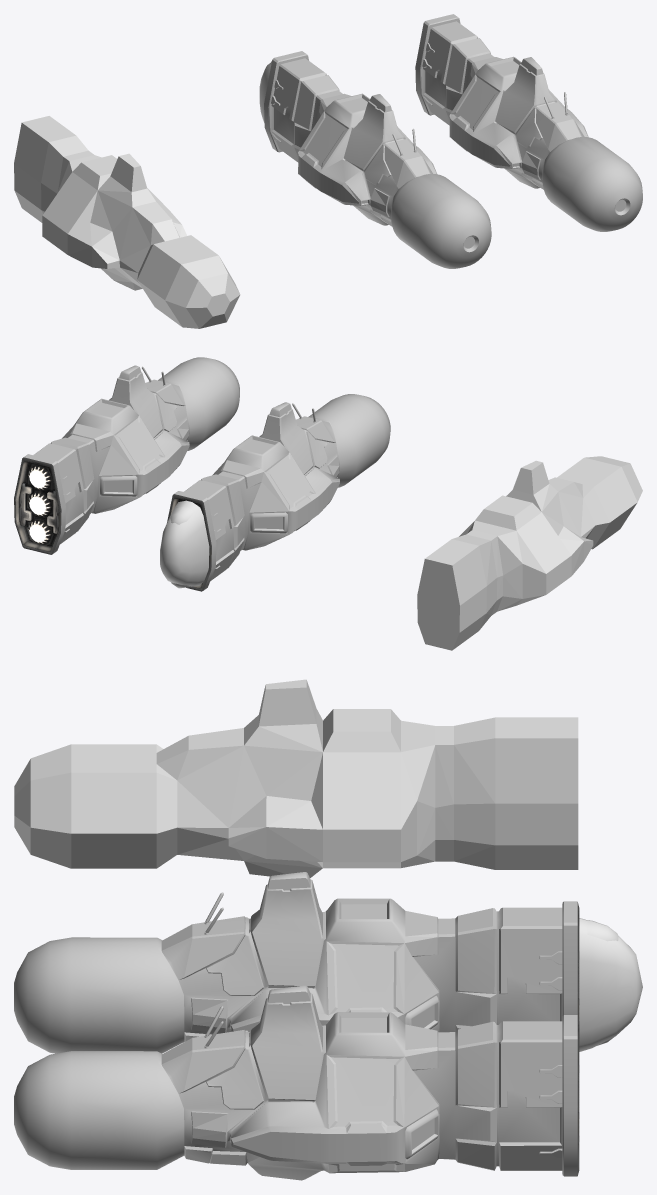
Rendered from bst_fieldfrigate.dae.
3 views of the same model, one above another, from view 1: azimuth 30°, elevation 25°; view 2: azimuth 150°, elevation 25°; view 3: azimuth 270°, elevation 25° (orthographic). The views are drawn at different scales.
Visible parts, largest first — view 1: COL[Root], MULT[DFGFrigate]_LOD[1], MULT[DFGFrigate]_LOD[0]; view 2: COL[Root], MULT[DFGFrigate]_LOD[1], MULT[DFGFrigate]_LOD[0], GLOW[EngineGlow3]_LOD[0]; view 3: COL[Root], MULT[DFGFrigate]_LOD[1], MULT[DFGFrigate]_LOD[0], GLOW[EngineGlow3]_LOD[0].
Boxes of the visible parts, box(x1,y1,x2,y2) form: COL[Root]: box(14, 116, 240, 328); MULT[DFGFrigate]_LOD[1]: box(415, 14, 642, 231); MULT[DFGFrigate]_LOD[0]: box(264, 51, 491, 268); COL[Root]: box(417, 456, 642, 650); MULT[DFGFrigate]_LOD[1]: box(14, 357, 239, 554); MULT[DFGFrigate]_LOD[0]: box(167, 394, 390, 591); GLOW[EngineGlow3]_LOD[0]: box(160, 500, 209, 588); COL[Root]: box(14, 679, 578, 877); MULT[DFGFrigate]_LOD[1]: box(14, 985, 579, 1180); MULT[DFGFrigate]_LOD[0]: box(14, 872, 579, 1053); GLOW[EngineGlow3]_LOD[0]: box(579, 918, 642, 1051).
Bounding box in the file's own units: 192 × 44.95 × 135.
